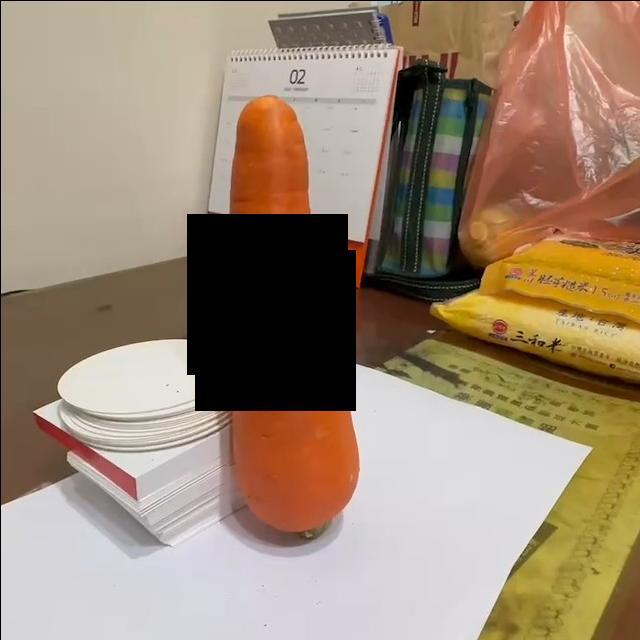carrot: (229, 93, 360, 536)
